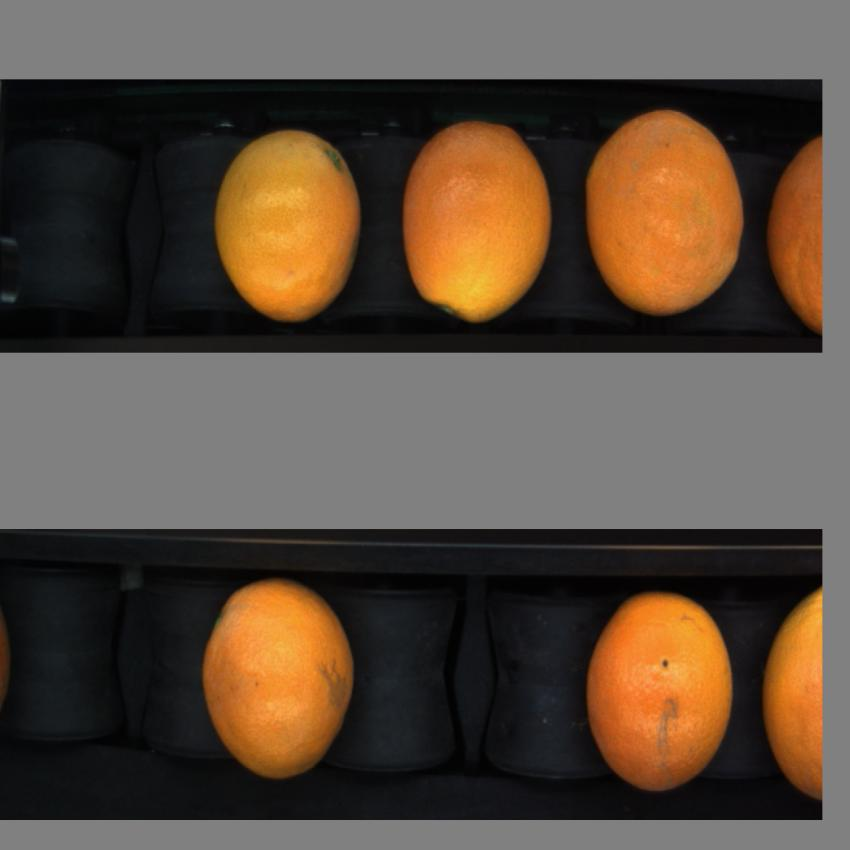Buen estado: (194, 571, 373, 790), (582, 101, 747, 324), (399, 105, 558, 324), (579, 587, 740, 799), (210, 118, 369, 327), (757, 580, 823, 812)
Mal estado: (763, 123, 822, 342)
